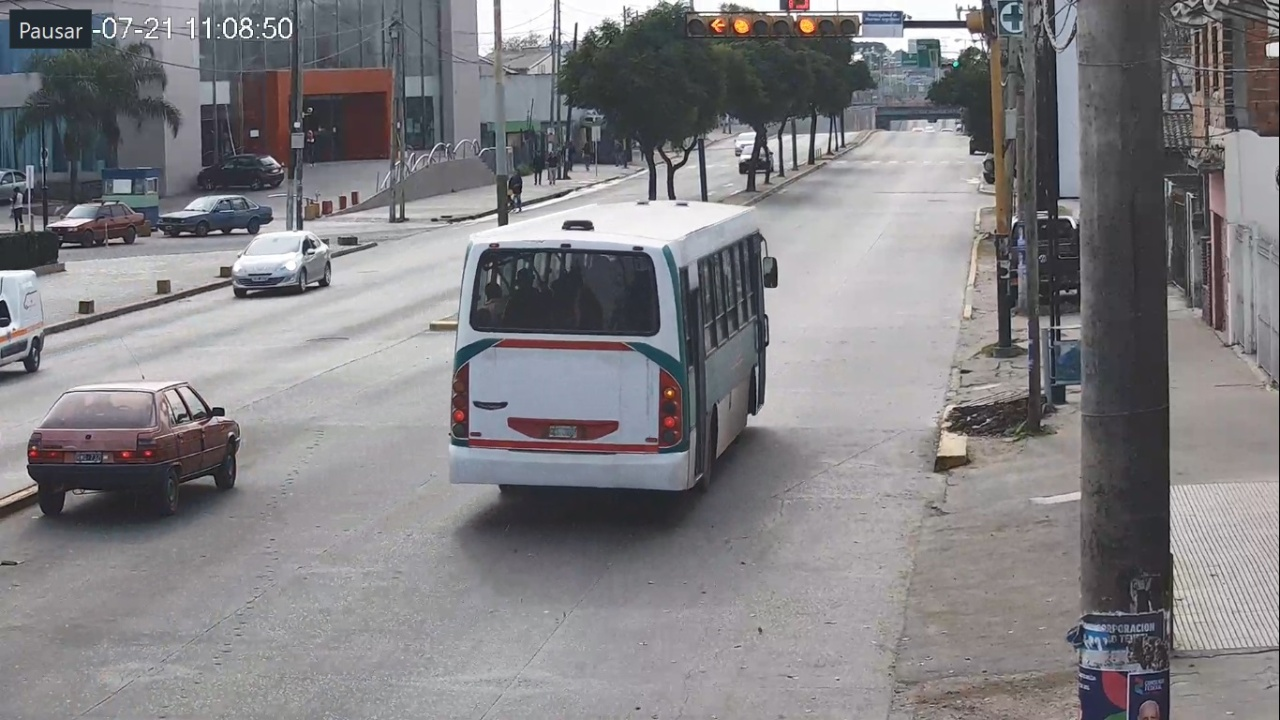bus: (449, 198, 777, 513)
car: (27, 382, 240, 516)
front car: (232, 230, 332, 297)
traffic light: (731, 13, 859, 38)
